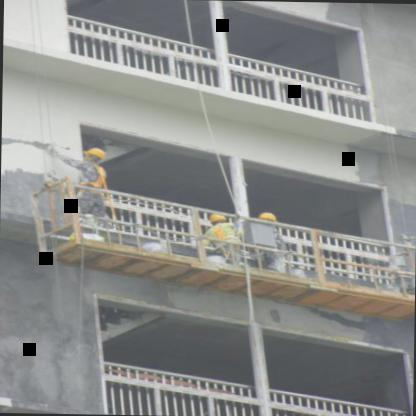helmet: (201, 209, 237, 228), (254, 208, 286, 228), (79, 146, 107, 165)
